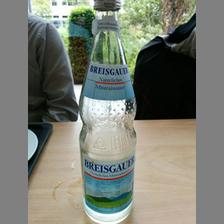Wasser: (78, 0, 138, 224)
